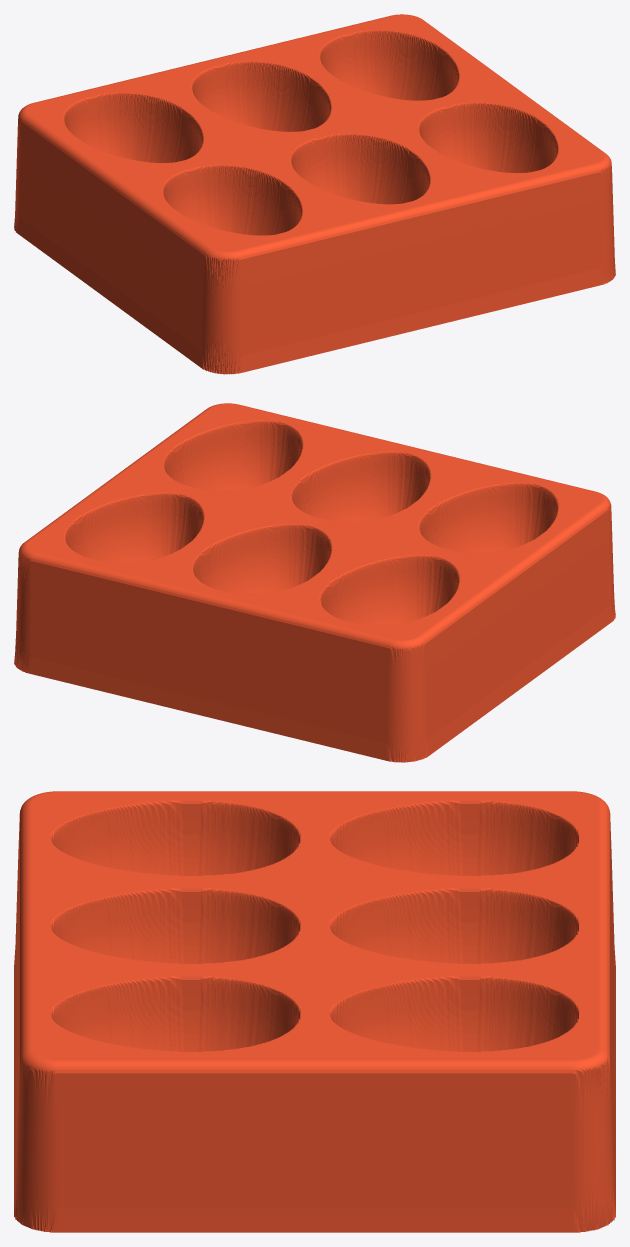
File: mold.glb
3 renders of one model, top to bottom at view 1: azimuth 30°, elevation 25°; view 2: azimuth 150°, elevation 25°; view 3: azimuth 270°, elevation 25°, orthographic. The views are drawn at different scales.
Visible parts, largest first — view 1: geometry_0; view 2: geometry_0; view 3: geometry_0.
Part boxes in pixels (x1=…): geometry_0: x1=14, y1=14, x2=615, y2=374; geometry_0: x1=14, y1=403, x2=615, y2=762; geometry_0: x1=14, y1=791, x2=615, y2=1232.
Size of the model in its own units: 0.1384 by 0.0377 by 0.1246.
